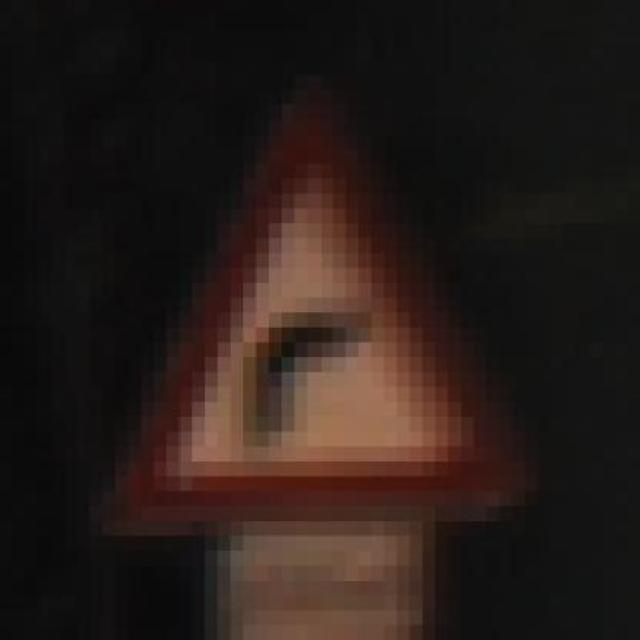Dangerous Rright Curve Ahead: (64, 89, 538, 551)
